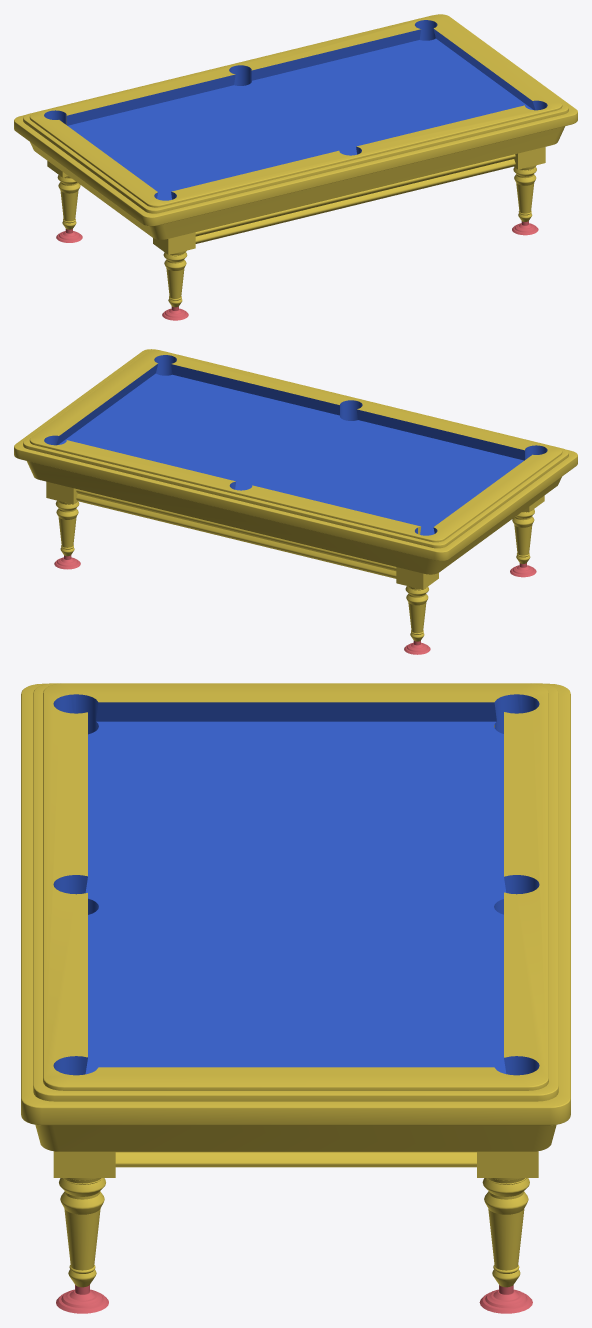
File: table.glb
3 views of the same model, one above another, from view 1: azimuth 30°, elevation 25°; view 2: azimuth 150°, elevation 25°; view 3: azimuth 270°, elevation 25° (orthographic). The views are drawn at different scales.
Parts seen in each view (by area): view 1: Billiard Table_Billiard Table_0; view 2: Billiard Table_Billiard Table_0; view 3: Billiard Table_Billiard Table_0.
Boxes of the visible parts, x1=… form: Billiard Table_Billiard Table_0: x1=14, y1=14, x2=577, y2=320; Billiard Table_Billiard Table_0: x1=14, y1=349, x2=577, y2=654; Billiard Table_Billiard Table_0: x1=21, y1=683, x2=570, y2=1313.
Size of the model in its own units: 2.91 by 0.7886 by 1.6.
